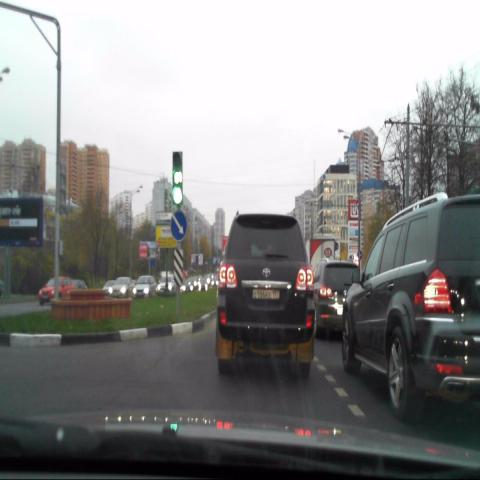4_2_1: (170, 211, 187, 242)
